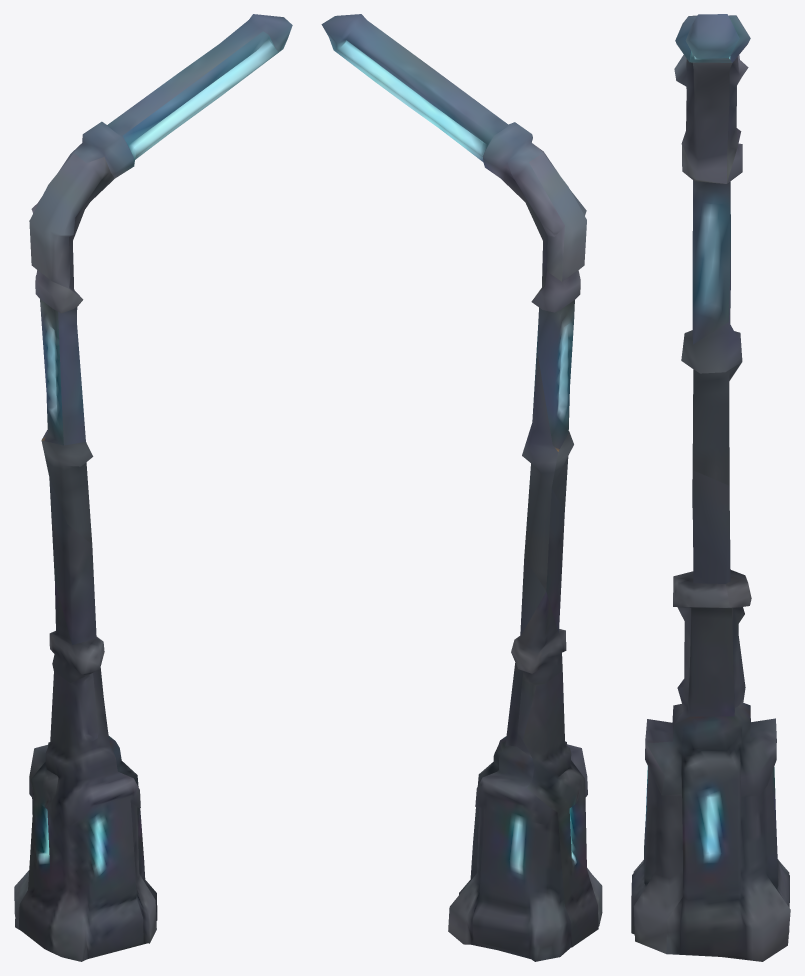
The model's file is led-streetlight.glb.
3 views of the same model, side by side, from view 1: azimuth 30°, elevation 25°; view 2: azimuth 150°, elevation 25°; view 3: azimuth 270°, elevation 25° (orthographic). The views are drawn at different scales.
Parts seen in each view (by area): view 1: led-streetlight; view 2: led-streetlight; view 3: led-streetlight.
Part boxes in pixels (x1,y1,x2,y2): led-streetlight: (14, 14, 292, 961); led-streetlight: (321, 14, 602, 961); led-streetlight: (631, 14, 790, 961).
Size of the model in its own units: 1.62 by 5.2 by 0.7421.
1 material, 1 textured.
